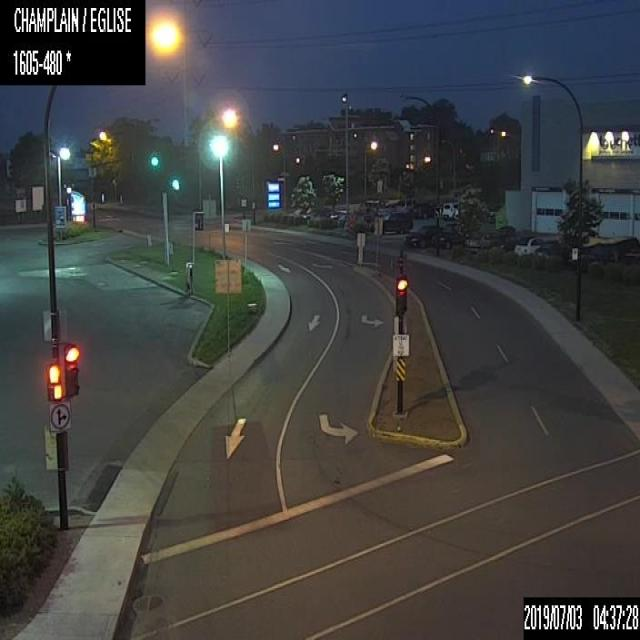vehicle: (405, 224, 442, 248), (465, 230, 501, 252), (430, 226, 464, 248), (382, 211, 412, 233), (514, 236, 540, 255), (535, 240, 562, 258), (496, 232, 520, 251), (410, 201, 434, 218), (358, 211, 376, 232), (441, 201, 458, 219), (377, 201, 397, 214), (301, 206, 316, 222), (310, 209, 330, 221), (330, 208, 346, 223), (393, 199, 412, 211), (361, 199, 378, 211), (292, 206, 304, 214)
